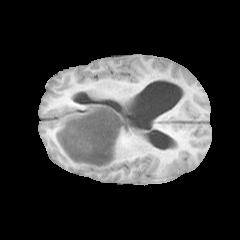glioma: (54, 104, 132, 172)
